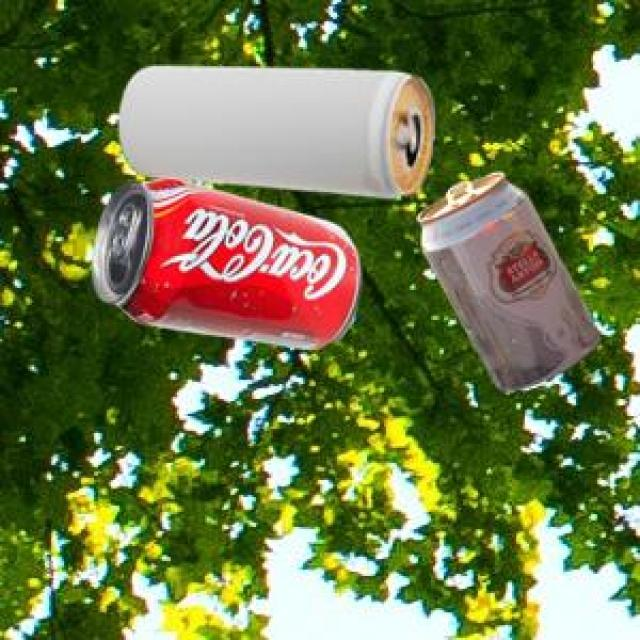Can: (89, 176, 357, 347), (116, 63, 432, 195), (415, 170, 596, 387)
